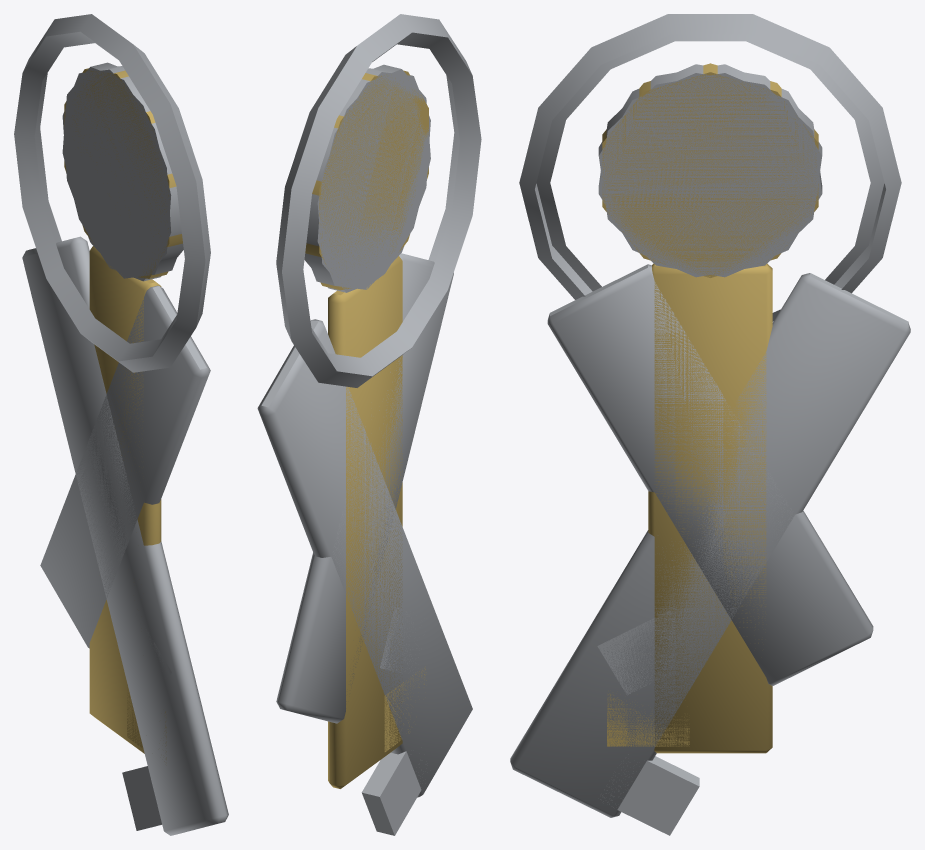
The model's file is item_keys_ring_hand.glb.
3 renders of one model, left to right at view 1: azimuth 30°, elevation 25°; view 2: azimuth 150°, elevation 25°; view 3: azimuth 270°, elevation 25°, orthographic. The views are drawn at different scales.
Parts seen in each view (by area): view 1: keys_ring; view 2: keys_ring; view 3: keys_ring.
Part boxes in pixels (x1=…): keys_ring: x1=14, y1=14, x2=228, y2=835; keys_ring: x1=257, y1=14, x2=481, y2=835; keys_ring: x1=510, y1=14, x2=910, y2=835.
Size of the model in its own units: 0.004 by 0.0866 by 0.0387.
